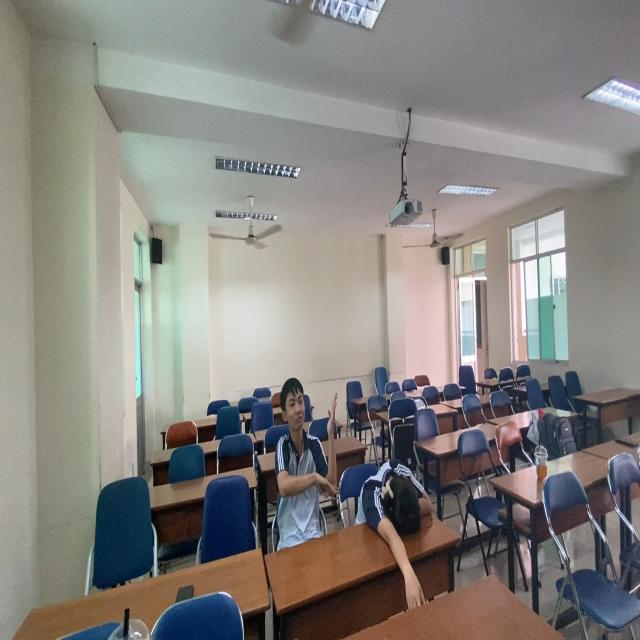raise_hand: (269, 370, 342, 544)
sleep: (356, 450, 441, 561)
